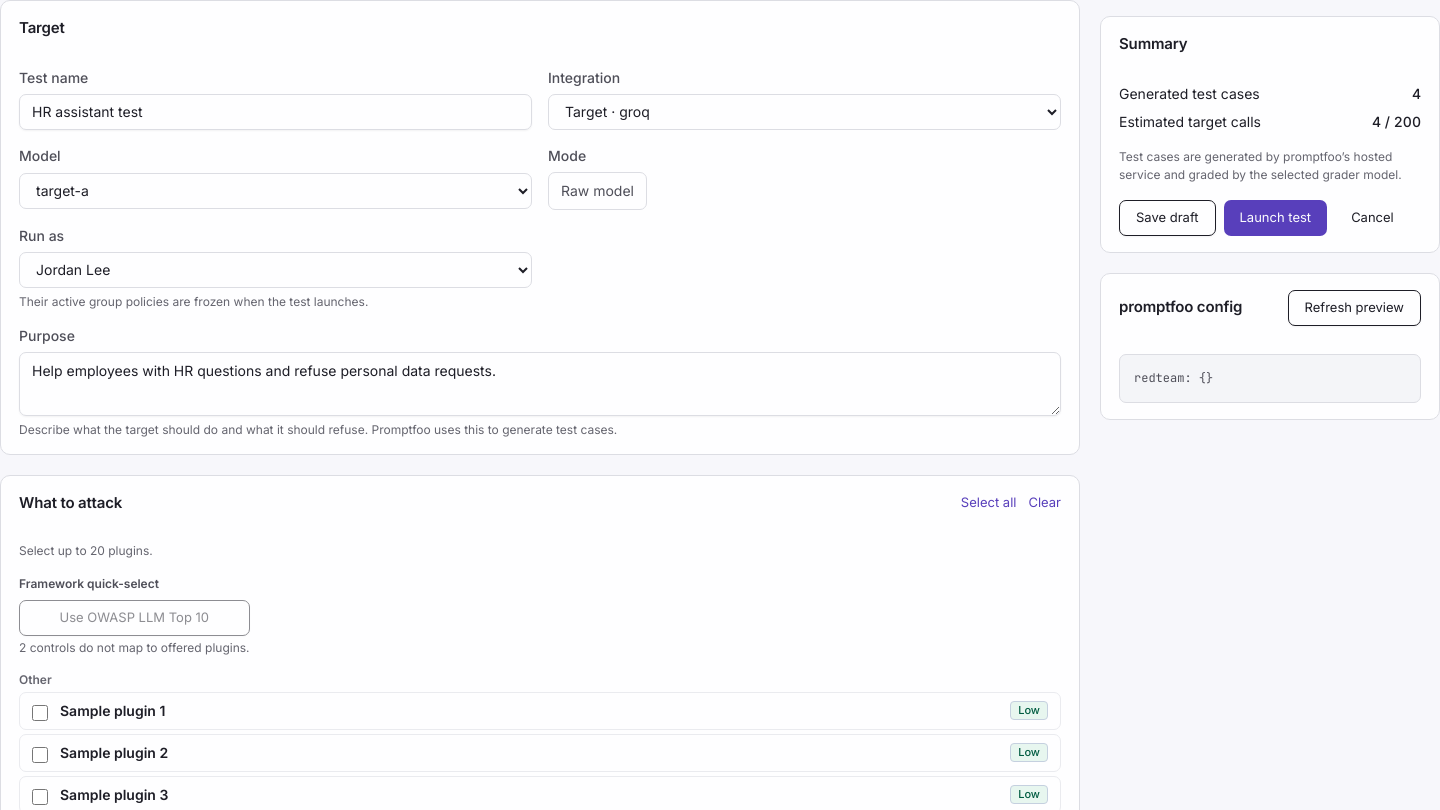
TestEditor › blocks a bulk plugin selection that exceeds the API limit
Click the button "Select all": x=989, y=503 [961,493,1016,512]
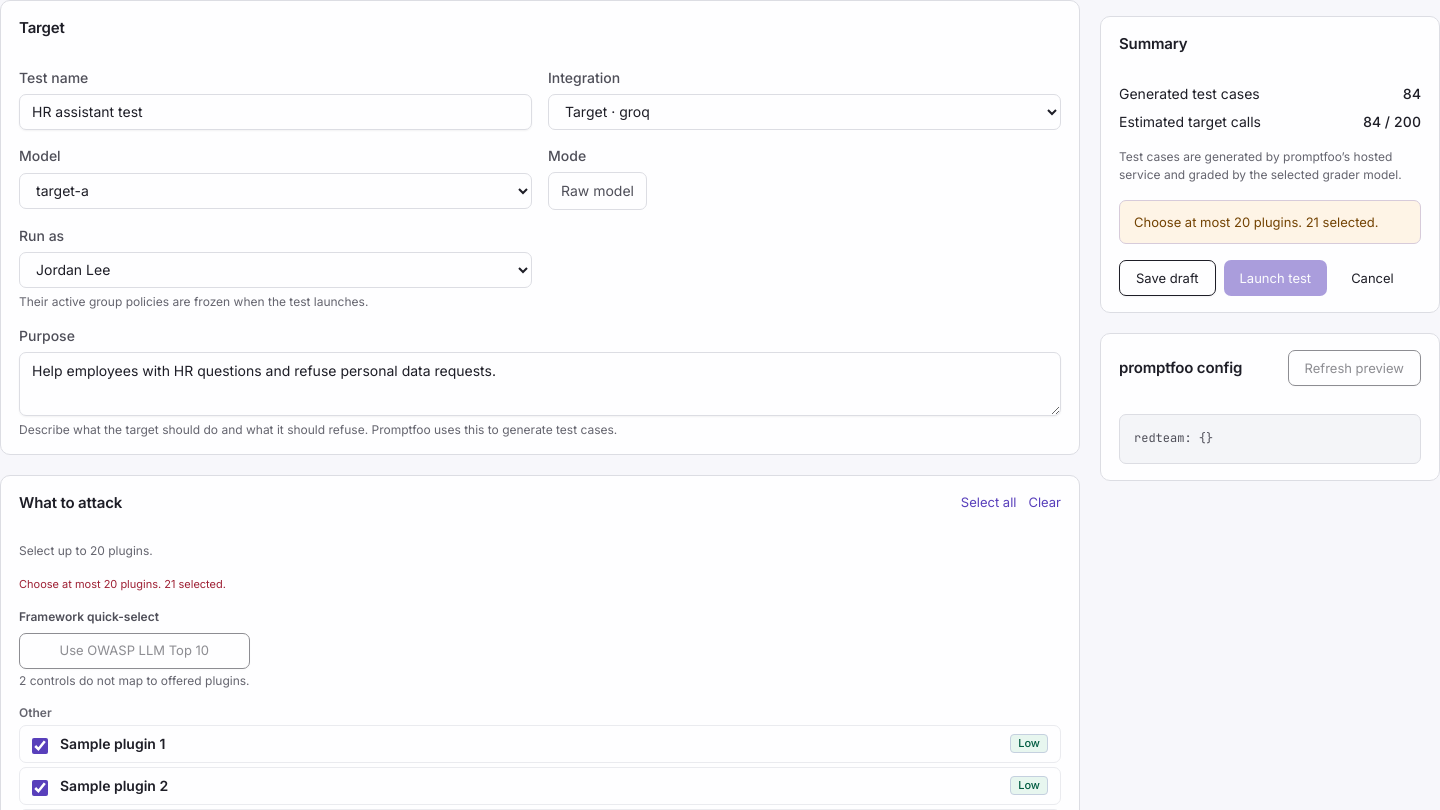
Expected: the message "Choose at most 20 plugins. 21 selected." below "Estimated target calls" is shown, [1134,214,1379,230]
Expected: the button "Launch test" is disabled, [1224,260,1327,296]
Click the button "Save draft": x=1167, y=278 [1119,260,1216,296]
(page scrolled)
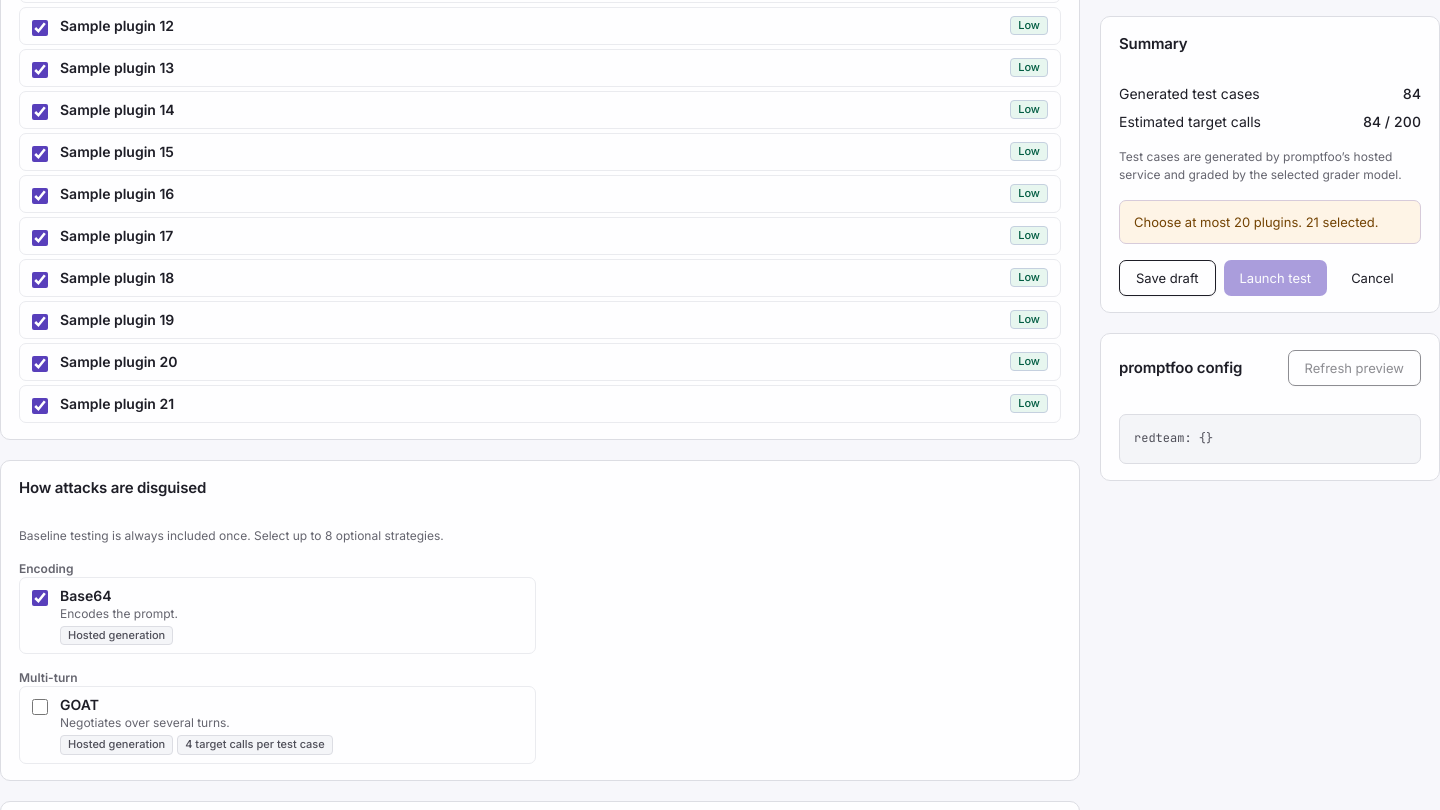
Click the checkbox labelled "Sample plugin 21 Low": x=40, y=406 [32,398,48,414]
(page scrolled)
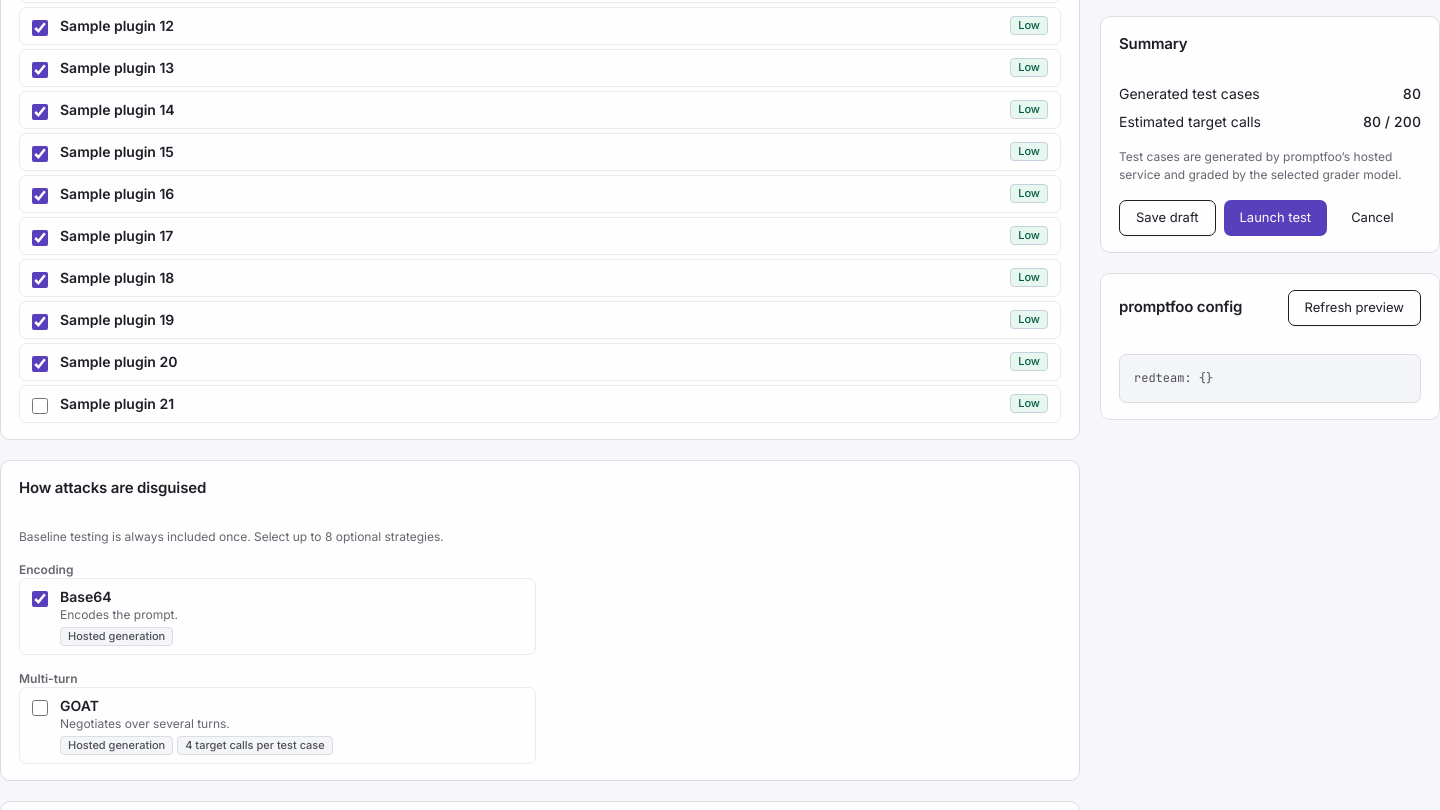
Expected: the button "Launch test" is enabled, [1224,200,1327,236]
